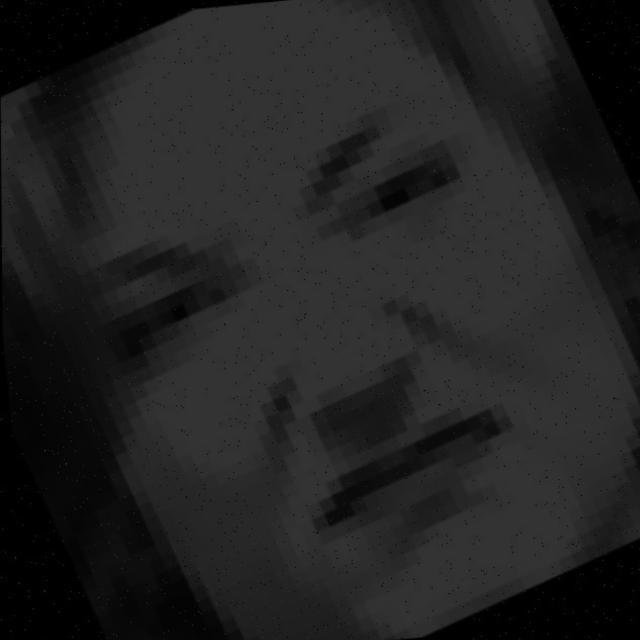Disgust: (25, 53, 626, 565)
